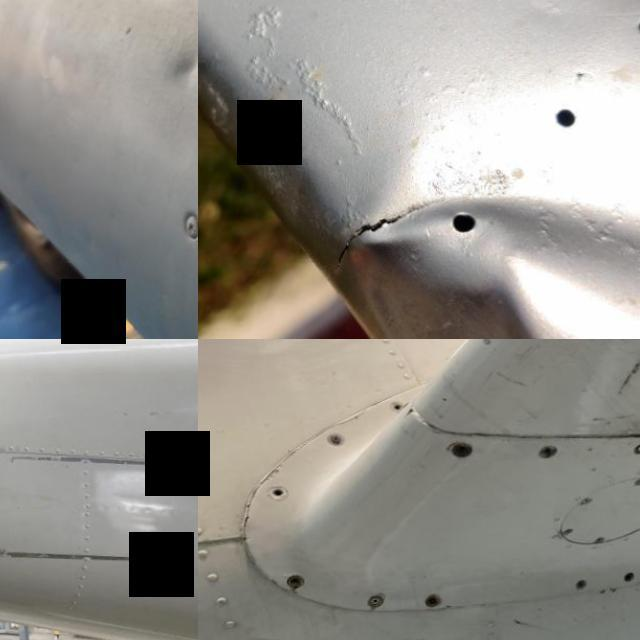Crack: (314, 175, 462, 293), (232, 459, 264, 538), (262, 444, 295, 486), (332, 404, 374, 428), (403, 409, 422, 418)
Dent: (286, 56, 640, 339), (154, 37, 198, 102)
Missing_Fastener: (448, 442, 474, 458), (537, 446, 563, 461), (420, 594, 444, 610), (268, 484, 289, 500), (286, 572, 304, 590), (391, 402, 404, 412), (624, 573, 634, 584)
